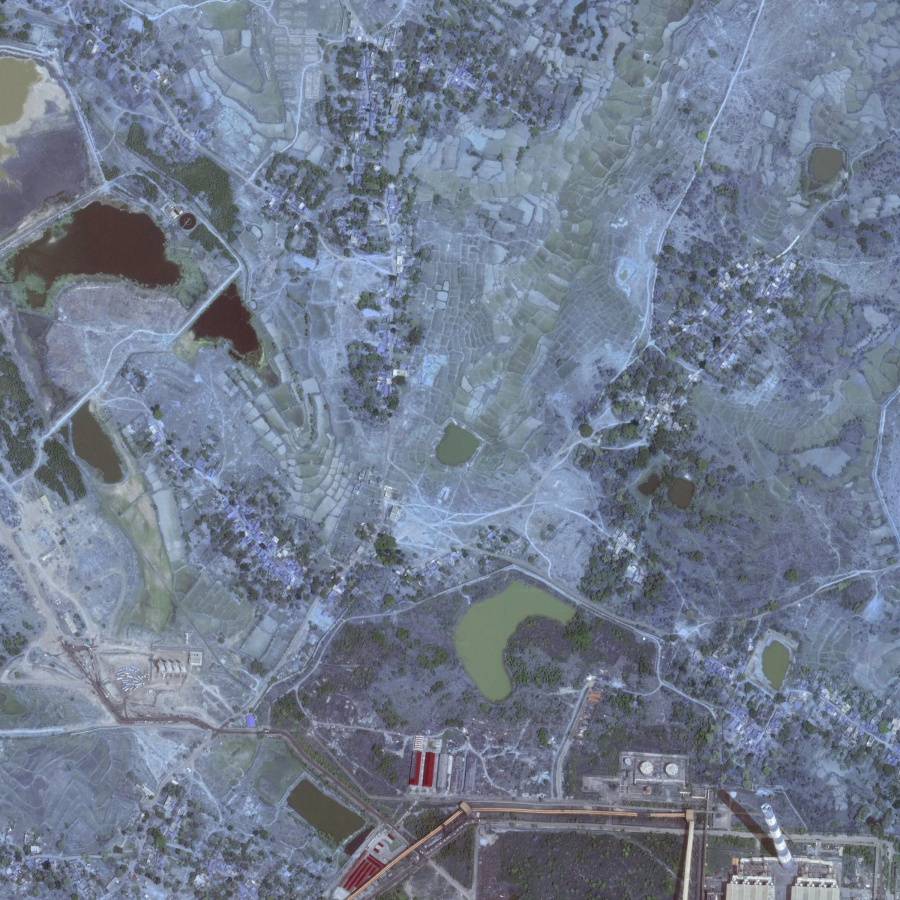PowerPlant: (692, 764, 846, 897)
